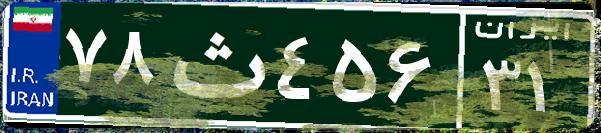1: (525, 38, 570, 115)
3: (475, 38, 525, 113)
4: (273, 28, 330, 110)
5: (330, 28, 385, 110)
6: (385, 28, 445, 110)
7: (57, 26, 110, 107)
8: (110, 28, 158, 105)
ث: (158, 15, 273, 115)
